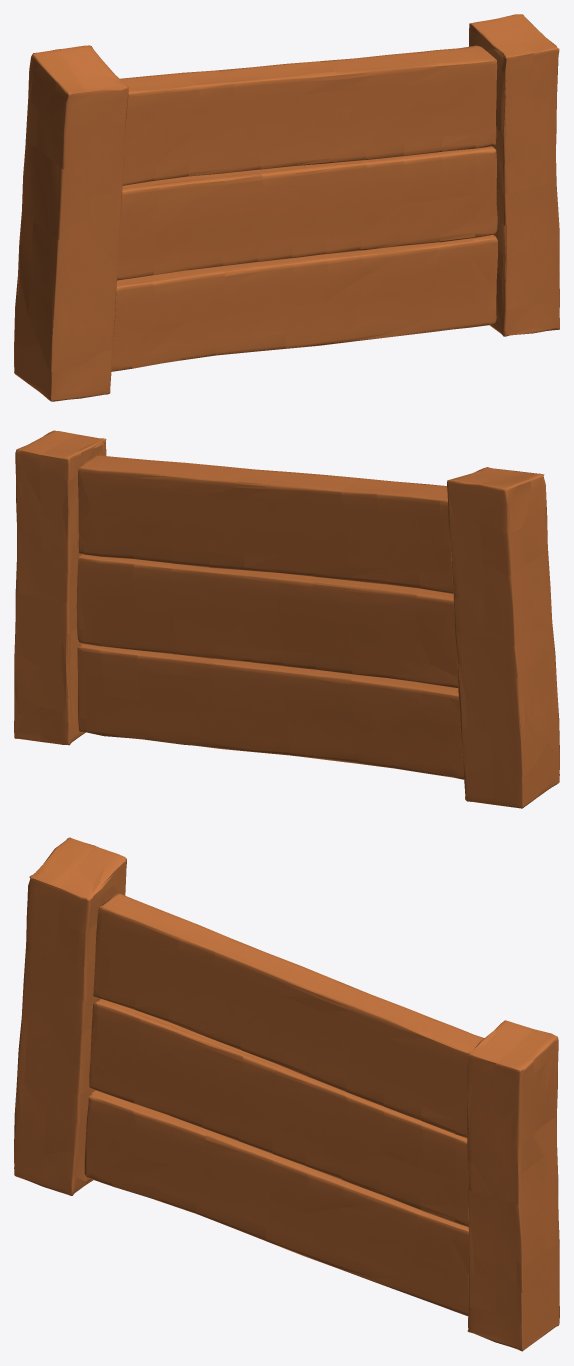
The model's file is wall.glb.
3 views of the same model, one above another, from view 1: azimuth 30°, elevation 25°; view 2: azimuth 150°, elevation 25°; view 3: azimuth 330°, elevation 25° (orthographic).
Bounding box in the file's own units: 1 × 0.6953 × 0.1357.
Materials: 1 (1 with a texture image).
